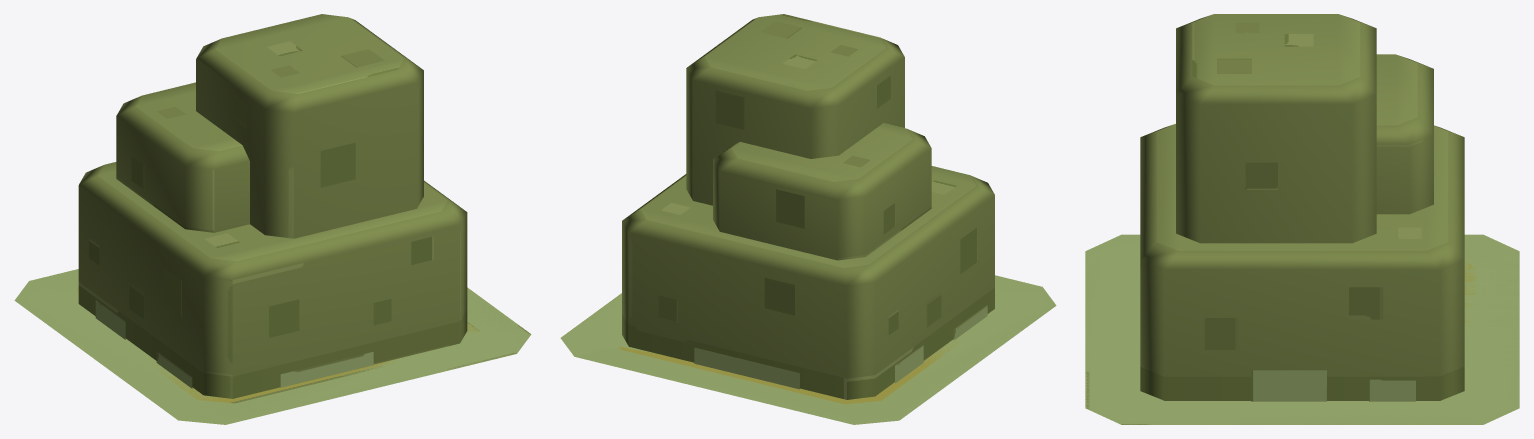
The model's file is B_water2_rock01.fbx.
The picture shows the model from 3 angles, left to right: view 1: azimuth 30°, elevation 25°; view 2: azimuth 150°, elevation 25°; view 3: azimuth 270°, elevation 25°; orthographic projection. The views are drawn at different scales.
Parts seen in each view (by area): view 1: model 1, model; view 2: model 1, model; view 3: model 1, model.
Boxes of the visible parts, <box> form: model 1: <box>14,14,530,424</box>; model: <box>15,269,531,424</box>; model 1: <box>561,14,1056,424</box>; model: <box>560,275,1055,424</box>; model 1: <box>1085,14,1519,424</box>; model: <box>1085,234,1519,424</box>.
Bounding box in the file's own units: 3.62 × 2.63 × 3.49.
Materials: 1 (1 with a texture image).
